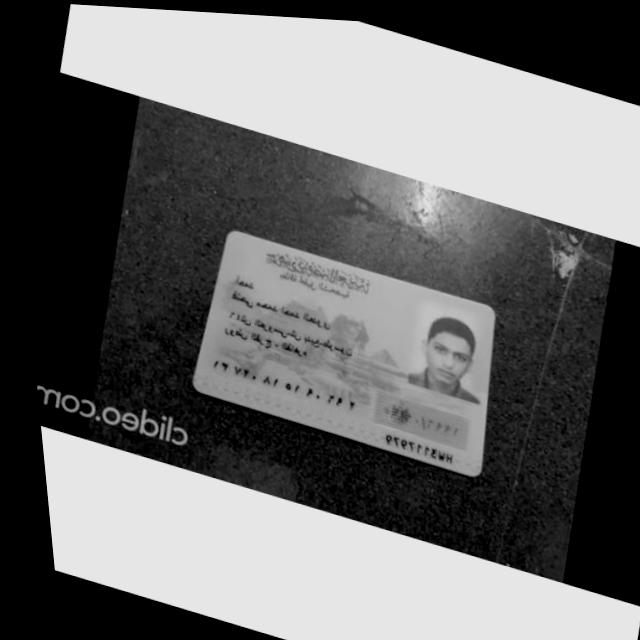front: (194, 230, 496, 475)
